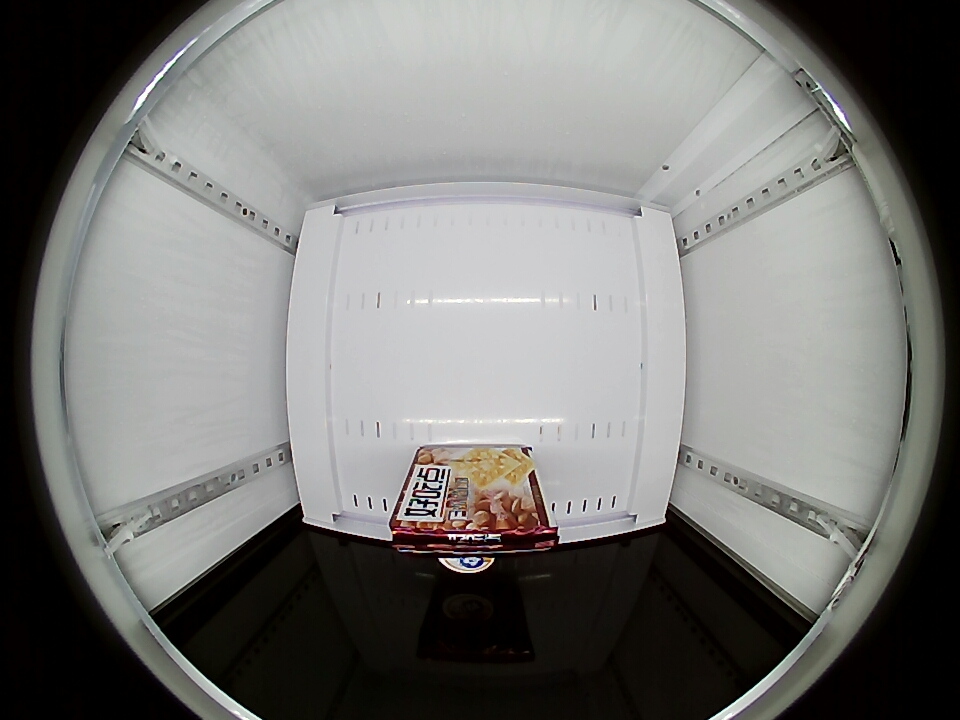haochidian: (388, 491, 556, 558)
